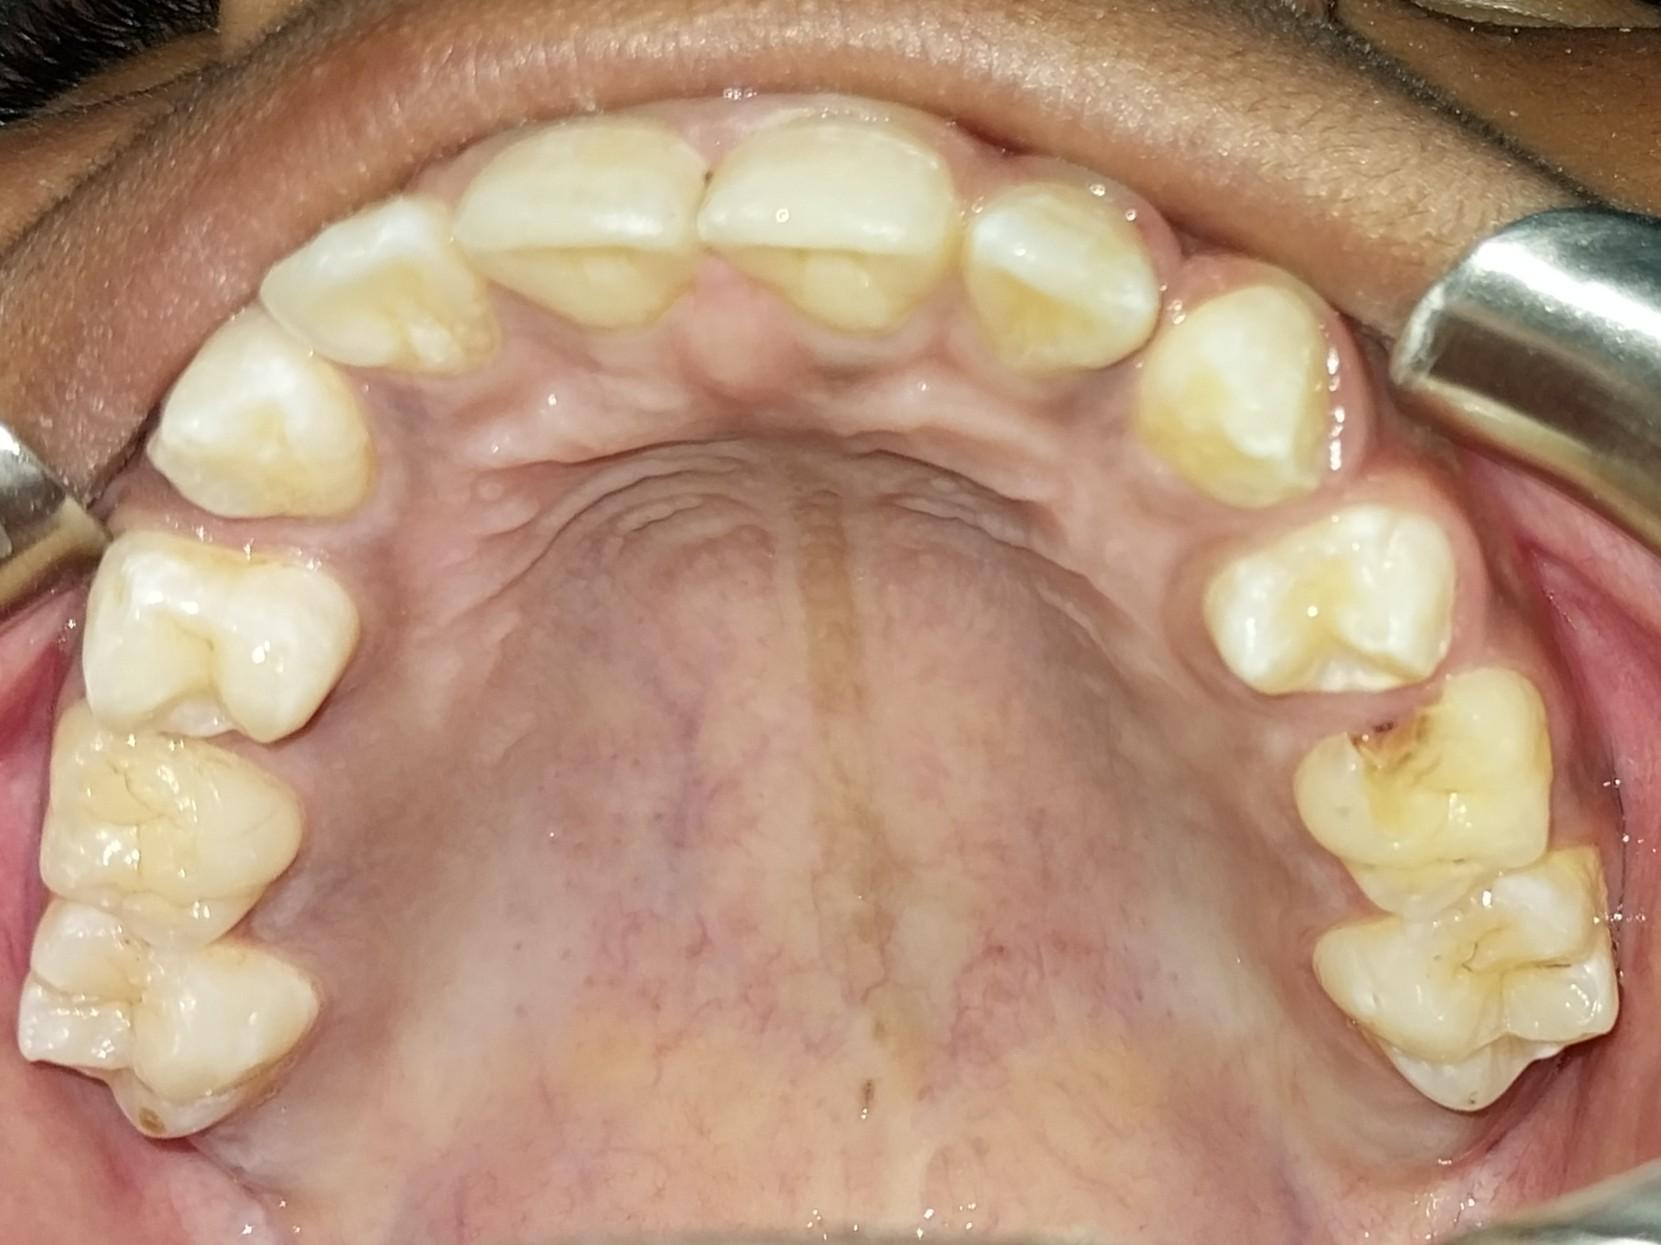d: (1293, 677, 1548, 919)
